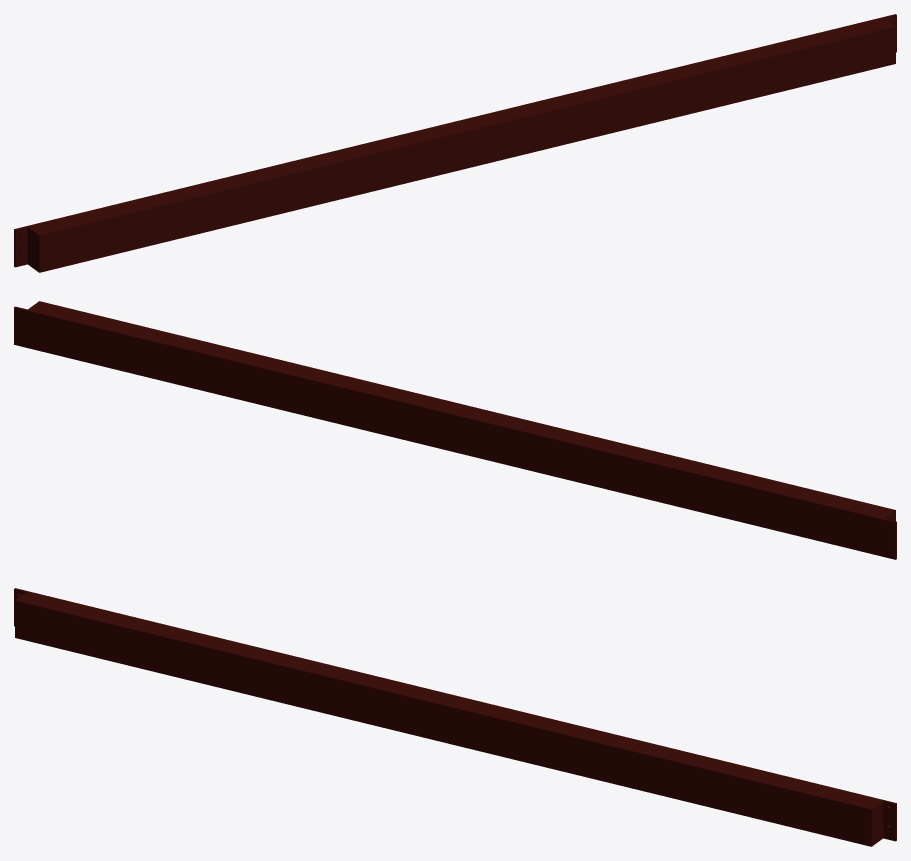
Rendered from 96_beam.obj.
3 views of the same model, one above another, from view 1: azimuth 30°, elevation 25°; view 2: azimuth 150°, elevation 25°; view 3: azimuth 330°, elevation 25° (orthographic).
Visible parts, largest first — view 1: 96"_Beam; view 2: 96"_Beam; view 3: 96"_Beam.
Boxes of the visible parts, <box> form: 96"_Beam: <box>14,14,896,272</box>; 96"_Beam: <box>14,301,896,559</box>; 96"_Beam: <box>14,588,896,846</box>.
Size of the model in its own units: 2.51 by 0.1016 by 0.0635.
